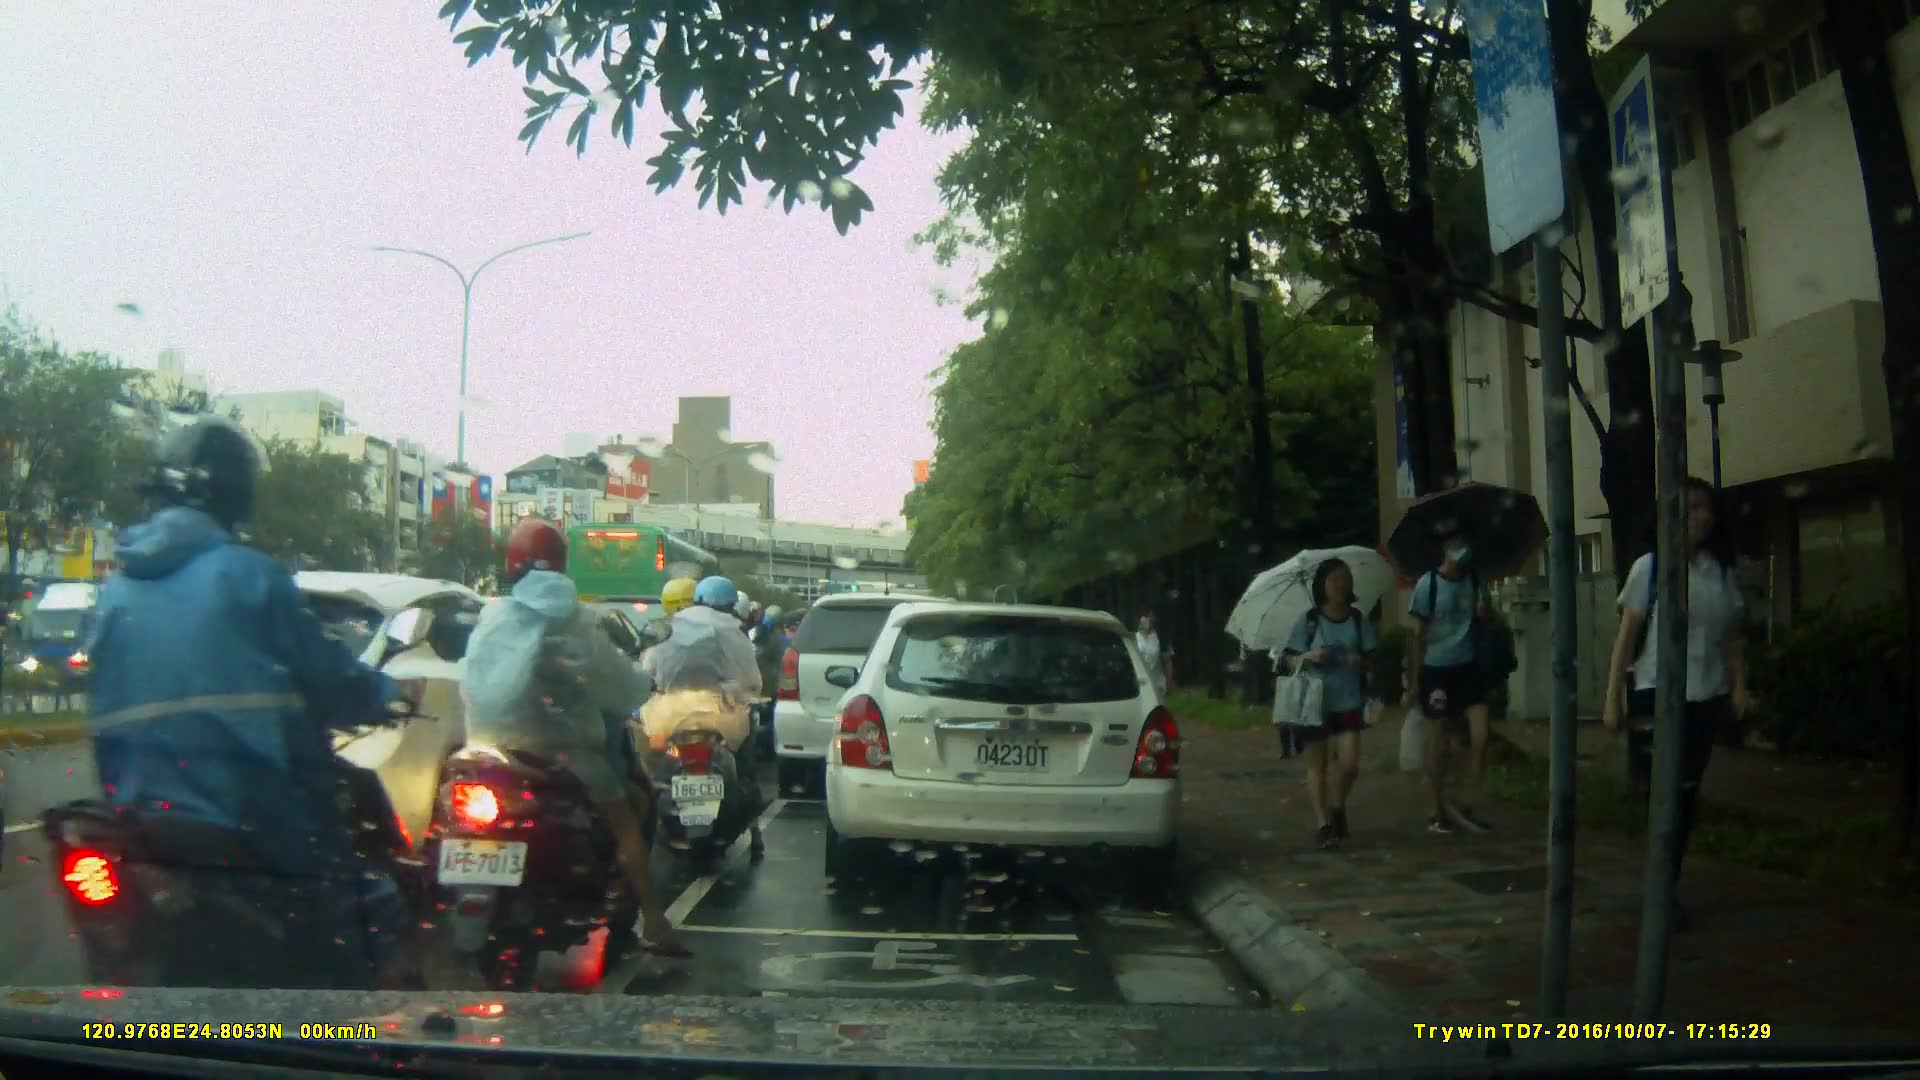pedestrian: (1616, 474, 1753, 929), (1394, 524, 1522, 850), (1280, 552, 1400, 867), (1269, 571, 1320, 770), (1125, 597, 1176, 757)
rider: (21, 412, 430, 1061), (432, 517, 702, 976), (622, 582, 774, 866), (665, 590, 763, 803)
vehicle: (100, 569, 597, 883), (822, 604, 1187, 883), (774, 595, 995, 802), (559, 521, 742, 664), (20, 576, 199, 697)
